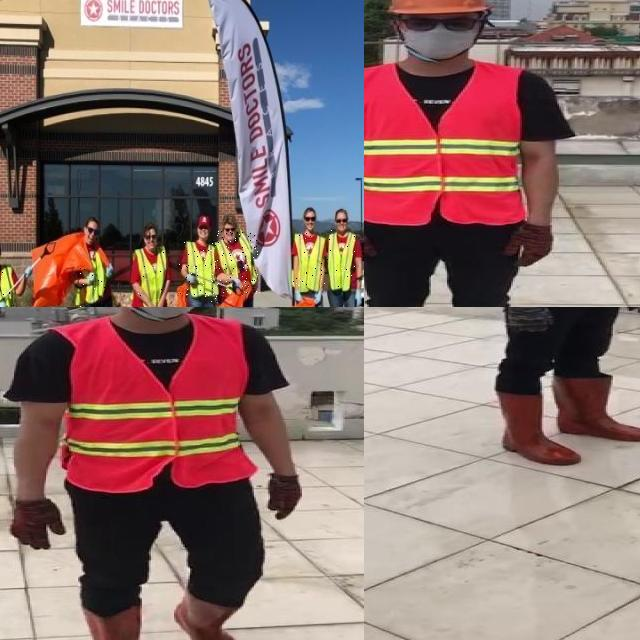BOOTS: (482, 387, 585, 468), (556, 371, 640, 441), (173, 589, 251, 640), (82, 605, 144, 640)
GLASS: (389, 16, 486, 32), (86, 224, 101, 235), (144, 234, 158, 241), (335, 218, 351, 224), (224, 227, 238, 233), (304, 216, 316, 222)
GLOVE: (7, 495, 68, 552), (502, 221, 554, 267), (265, 471, 305, 522), (506, 307, 554, 335), (364, 226, 379, 268), (233, 276, 244, 289), (24, 266, 34, 280), (85, 272, 95, 286), (187, 272, 197, 285), (106, 264, 114, 279)
HELMET: (389, 0, 494, 17)
VEST: (60, 318, 249, 487), (364, 61, 524, 226), (291, 231, 341, 291), (217, 227, 259, 295), (180, 240, 224, 302), (322, 236, 355, 291), (136, 245, 165, 300), (81, 265, 106, 307), (0, 266, 15, 307)
